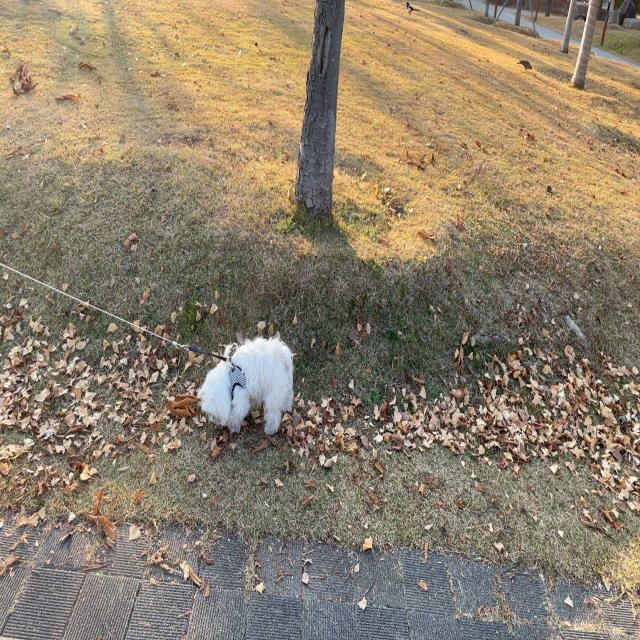Dog: (201, 335, 294, 436)
